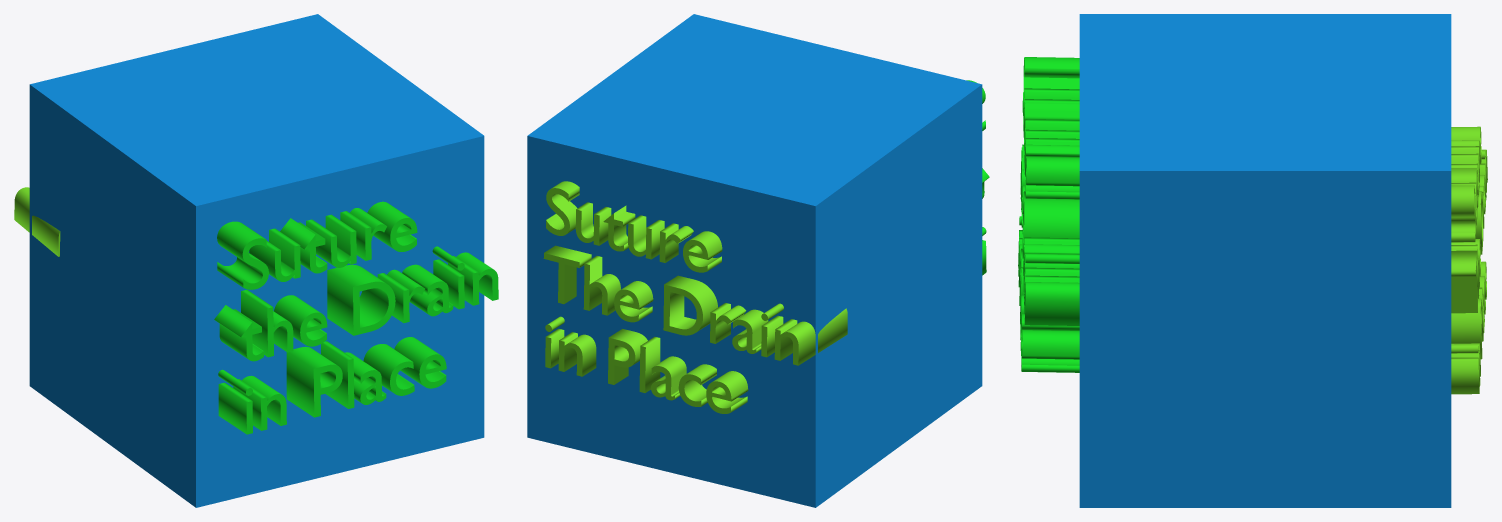
The model's file is suturedraininplace (1).glb.
3 views of the same model, side by side, from view 1: azimuth 30°, elevation 25°; view 2: azimuth 150°, elevation 25°; view 3: azimuth 270°, elevation 25° (orthographic). The views are drawn at different scales.
Parts seen in each view (by area): view 1: Cube, Text.001, Text.002; view 2: Cube, Text.002; view 3: Cube, Text.001, Text.002.
Part boxes in pixels (bbox=[...]): Cube: bbox=[29, 14, 484, 507]; Text.001: bbox=[214, 201, 498, 434]; Text.002: bbox=[14, 187, 60, 256]; Cube: bbox=[527, 14, 982, 507]; Text.002: bbox=[543, 181, 847, 413]; Cube: bbox=[1079, 14, 1451, 507]; Text.001: bbox=[1018, 57, 1079, 372]; Text.002: bbox=[1451, 126, 1487, 394].
Bounding box in the file's own units: 2.01 × 2 × 2.53.
